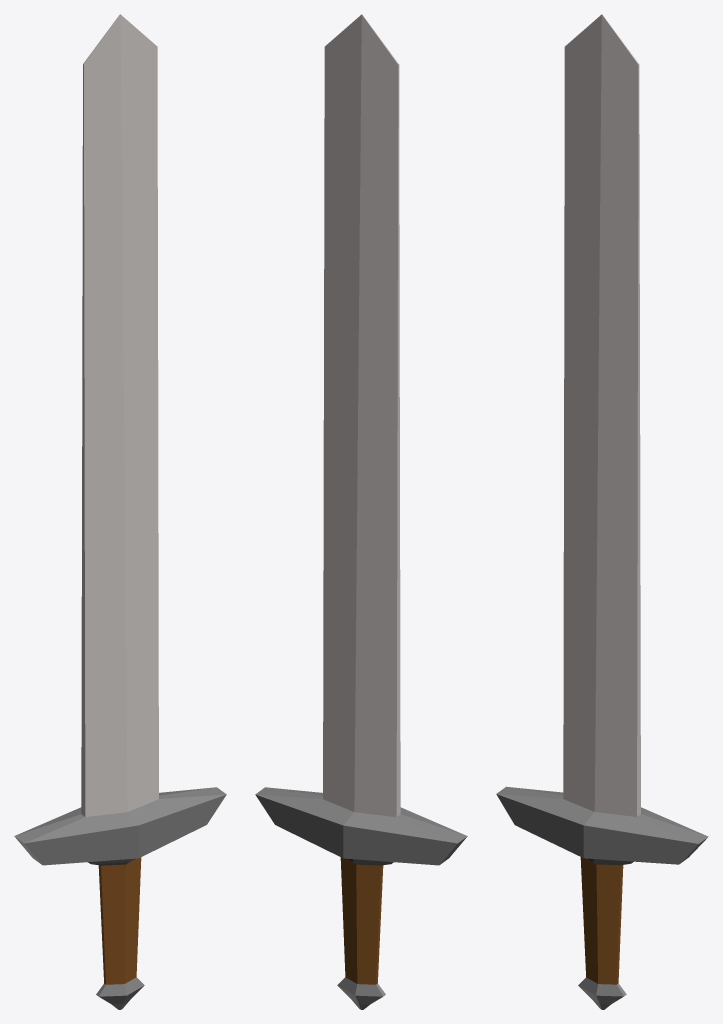
Rendered from Sword.fbx.
3 views of the same model, side by side, from view 1: azimuth 30°, elevation 25°; view 2: azimuth 150°, elevation 25°; view 3: azimuth 330°, elevation 25° (orthographic).
Parts seen in each view (by area): view 1: Cube; view 2: Cube; view 3: Cube.
Part boxes in pixels (<box>): Cube: <box>14,14,226,1009</box>; Cube: <box>255,14,467,1009</box>; Cube: <box>496,14,708,1009</box>.
Size of the model in its own units: 56.38 by 265 by 17.82.
